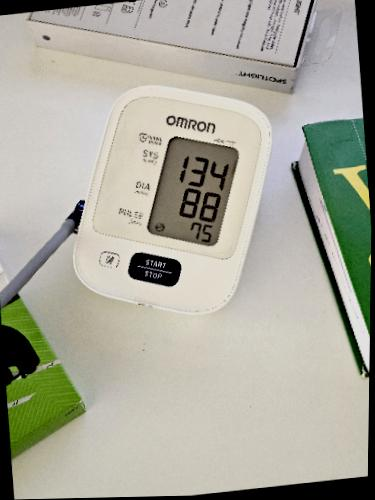bpm: (145, 132, 242, 252)
